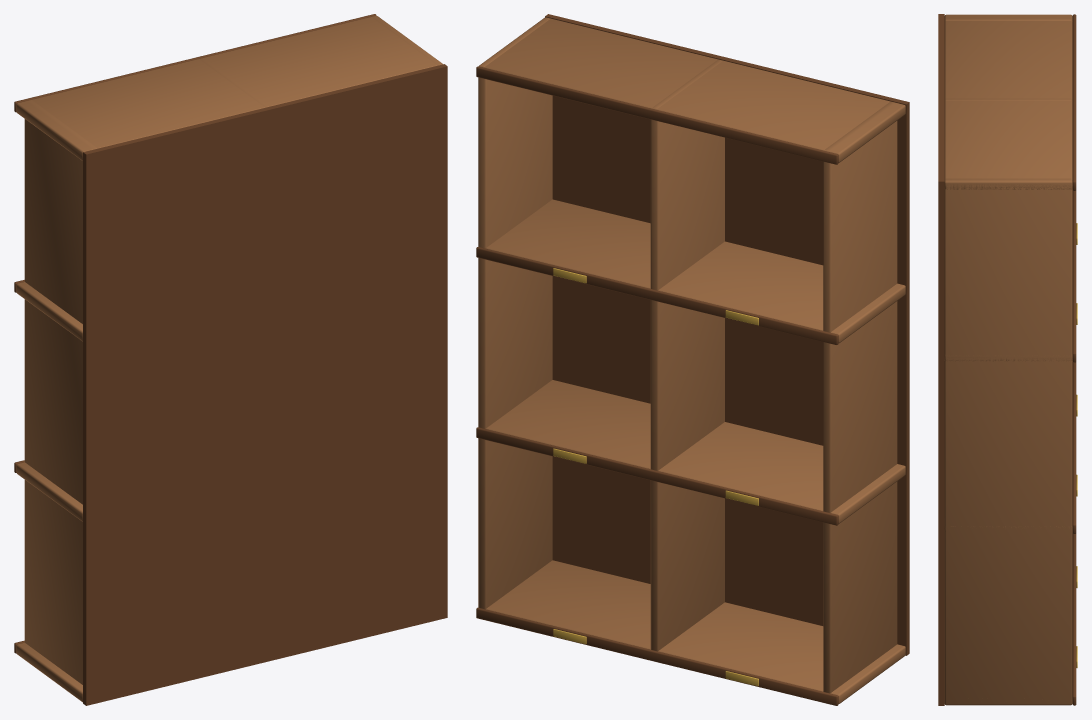
Rendered from itemshelf_2x3.fbx.
The picture shows the model from 3 angles, left to right: view 1: azimuth 30°, elevation 25°; view 2: azimuth 150°, elevation 25°; view 3: azimuth 270°, elevation 25°; orthographic projection. The views are drawn at different scales.
Parts seen in each view (by area): view 1: itemshelf_2x3; view 2: itemshelf_2x3; view 3: itemshelf_2x3.
Boxes of the visible parts, left/top/right/bottom form: itemshelf_2x3: left=14, top=14, right=447, bottom=705; itemshelf_2x3: left=476, top=14, right=909, bottom=705; itemshelf_2x3: left=938, top=14, right=1077, bottom=705.
Size of the model in its own units: 1.3 by 1.9 by 0.456.
